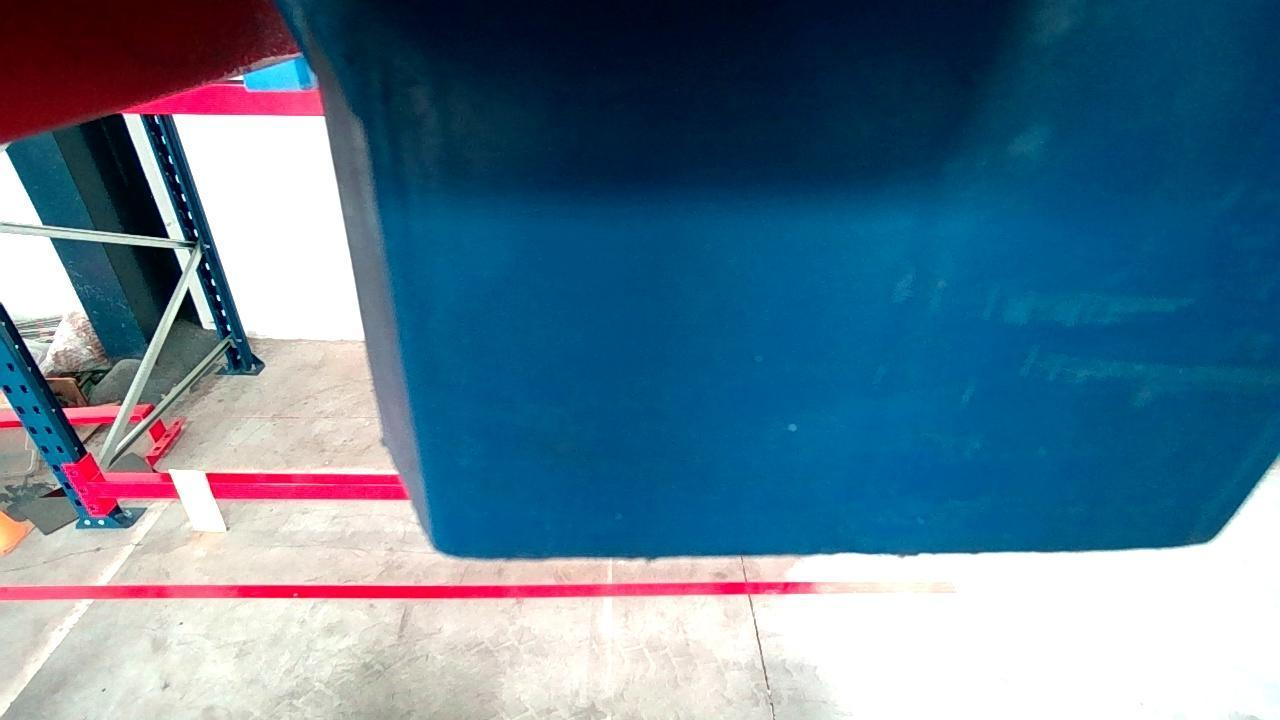h_rack: (84, 480, 412, 501)
orange_strip: (172, 470, 225, 531)
red_line: (2, 582, 953, 602)
